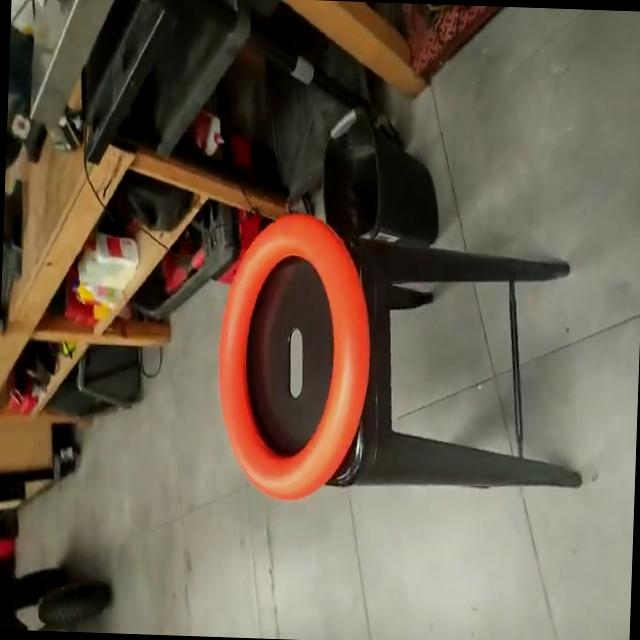note: (212, 215, 378, 508)
